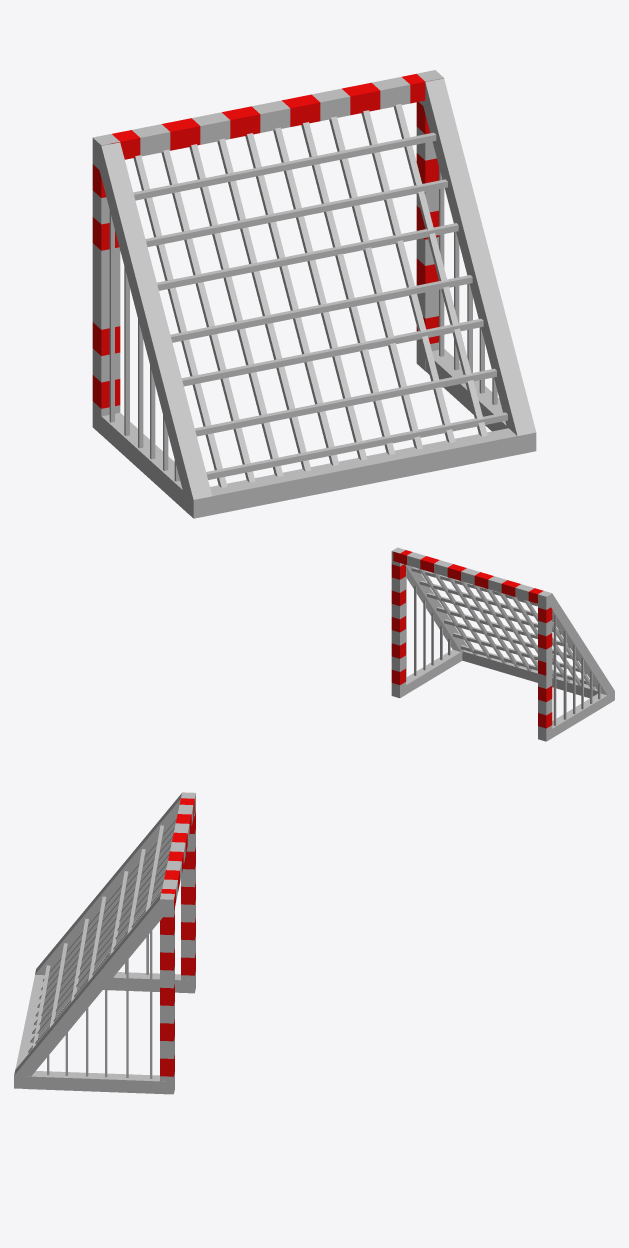
File: Soccer.fbx
3 views of the same model, one above another, from view 1: azimuth 30°, elevation 25°; view 2: azimuth 150°, elevation 25°; view 3: azimuth 270°, elevation 25° (orthographic). The views are drawn at different scales.
Parts seen in each view (by area): view 1: Box004.001, Box003.001, Box006.001, Box005.001, Box001.001, Box002.001, Box038.001, Box035.001, Box033.001, Box032.001, Box036.001, Box034.001 (+17 smaller); view 2: Box005.001, Box001.001, Box002.001, Box004.001, Box006.001, Box003.001, Box007.001, Box008.001, Box026.001, Box027.001, Box028.001, Box029.001 (+13 smaller); view 3: Box003.001, Box002.001, Box007.001, Box004.001, Box001.001, Box005.001, Box008.001, Box006.001, Box028.001, Box026.001, Box027.001, Box023.001 (+4 smaller).
Boxes of the visible parts, x1,y1,x2,y2 form: Box004.001: [94, 142, 212, 504]; Box003.001: [422, 78, 536, 435]; Box006.001: [188, 428, 536, 518]; Box005.001: [110, 74, 439, 159]; Box001.001: [92, 134, 120, 434]; Box002.001: [416, 70, 444, 371]; Box038.001: [133, 132, 436, 200]; Box035.001: [145, 179, 447, 246]; Box033.001: [170, 275, 472, 342]; Box032.001: [195, 368, 496, 436]; Box036.001: [157, 223, 458, 290]; Box034.001: [181, 318, 483, 386]; Box005.001: [393, 550, 543, 603]; Box001.001: [538, 591, 552, 741]; Box002.001: [391, 547, 405, 698]; Box004.001: [548, 594, 614, 698]; Box006.001: [462, 650, 614, 702]; Box003.001: [405, 564, 467, 653]; Box007.001: [406, 649, 462, 694]; Box008.001: [552, 693, 611, 737]; Box026.001: [473, 584, 532, 671]; Box027.001: [460, 581, 519, 667]; Box028.001: [447, 577, 506, 663]; Box029.001: [433, 573, 492, 659]; Box003.001: [14, 894, 170, 1081]; Box002.001: [160, 893, 174, 1094]; Box007.001: [22, 1071, 168, 1094]; Box004.001: [35, 793, 181, 975]; Box001.001: [181, 792, 195, 993]; Box005.001: [161, 798, 194, 910]; Box008.001: [80, 972, 189, 993]; Box006.001: [14, 975, 44, 1088]; Box028.001: [30, 880, 163, 1042]; Box026.001: [34, 862, 167, 1025]; Box027.001: [32, 871, 165, 1033]; Box023.001: [39, 836, 172, 999].
Bounding box in the file's own units: 1.51e+08 × 5.41e+07 × 1.51e+08.
